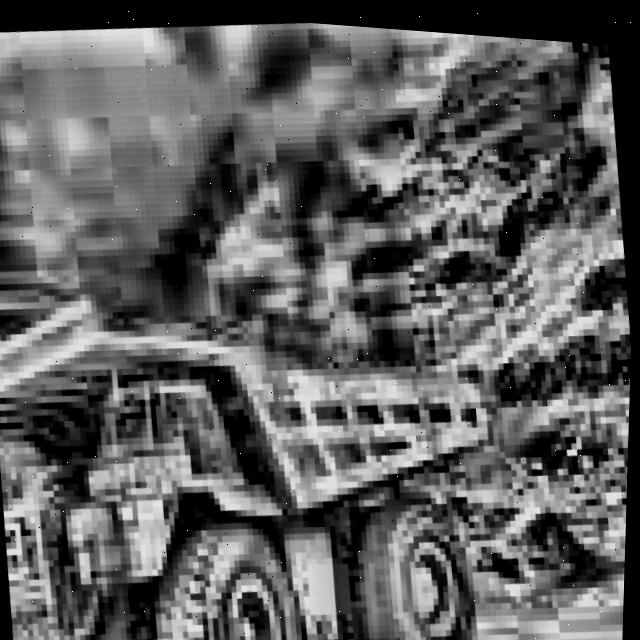dump_truck: (0, 214, 517, 640)
